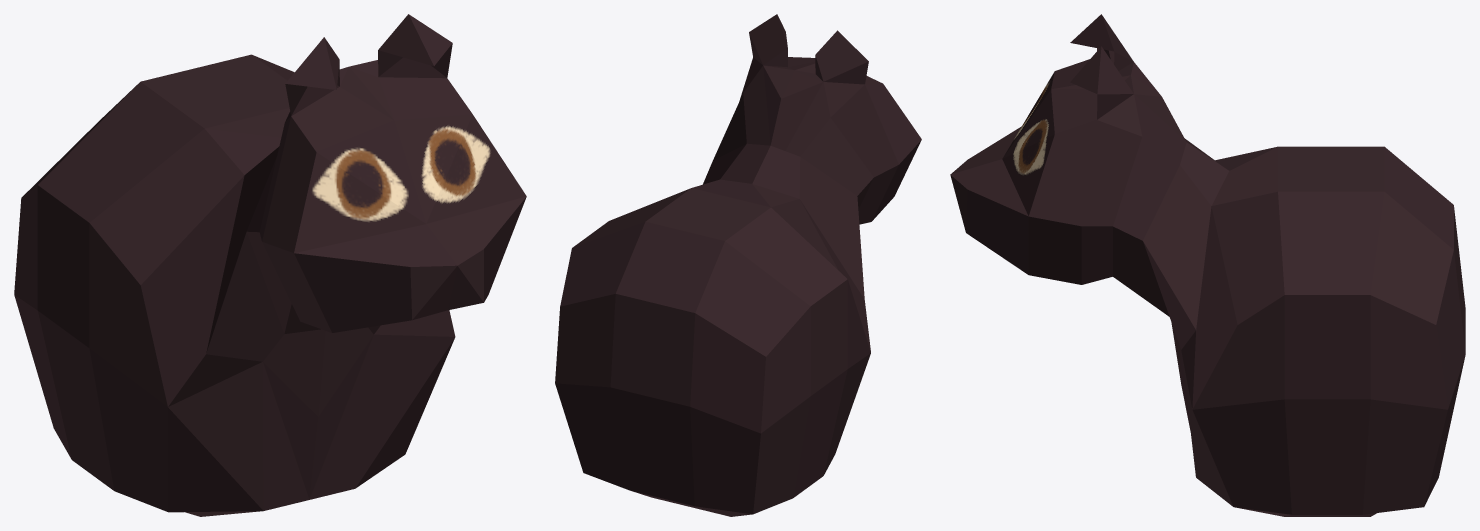
The model's file is wolfy_onyx.glb.
3 renders of one model, left to right at view 1: azimuth 30°, elevation 25°; view 2: azimuth 150°, elevation 25°; view 3: azimuth 270°, elevation 25°, orthographic. The views are drawn at different scales.
Visible parts, largest first — view 1: wolfy onyx; view 2: wolfy onyx; view 3: wolfy onyx.
Part boxes in pixels (x1,y1,x2,y2): wolfy onyx: [14, 14, 526, 516]; wolfy onyx: [555, 14, 921, 516]; wolfy onyx: [950, 14, 1465, 516].
Bounding box in the file's own units: 0.4146 × 0.6654 × 0.668.
Materials: 1 (1 with a texture image).
